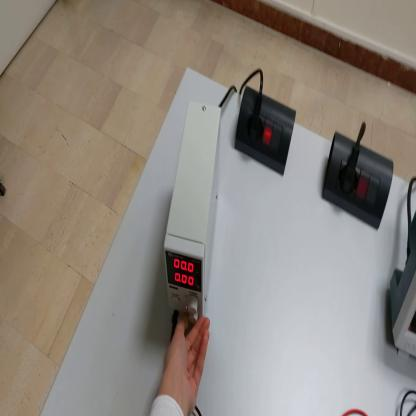hand: (160, 314, 211, 407)
oscilloscope: (391, 214, 416, 362)
power supply: (165, 103, 224, 329)
socket: (320, 126, 397, 234), (231, 88, 299, 177)
